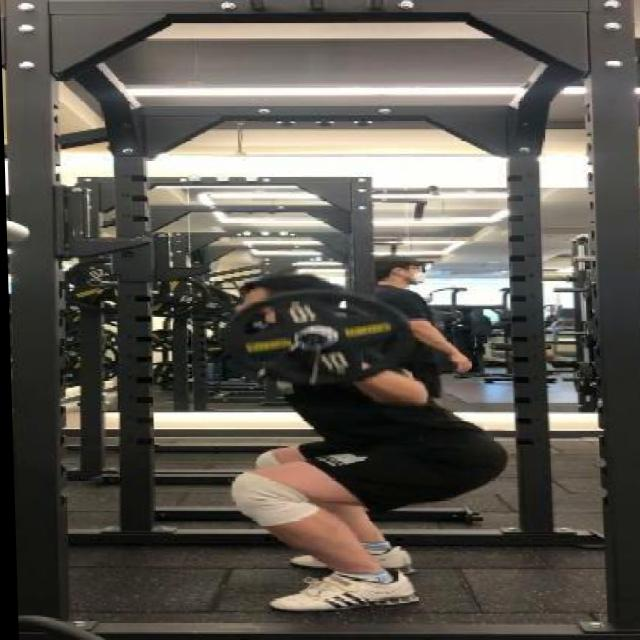barbell: (212, 286, 418, 392)
